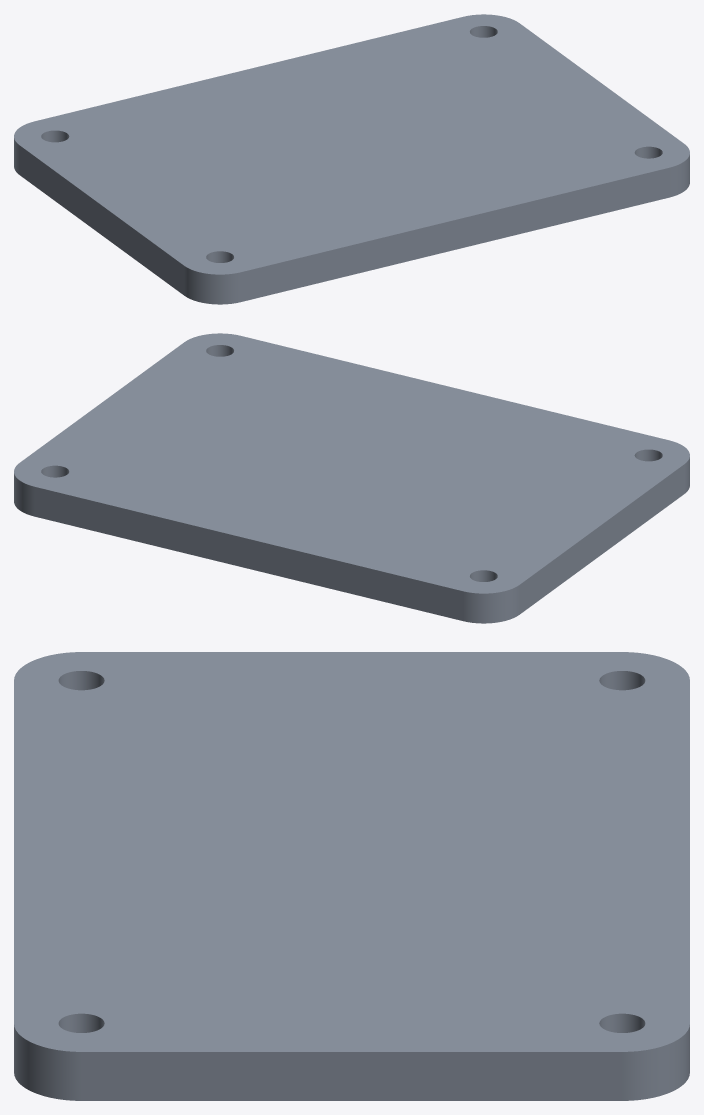
Rendered from step-1-preview-1.glb.
3 renders of one model, top to bottom at view 1: azimuth 30°, elevation 25°; view 2: azimuth 150°, elevation 25°; view 3: azimuth 270°, elevation 25°, orthographic. The views are drawn at different scales.
Visible parts, largest first — view 1: preview_13, preview_3, preview_0, preview_1, preview_5; view 2: preview_13, preview_4, preview_0, preview_2, preview_6; view 3: preview_13, preview_7, preview_5, preview_6, preview_8, preview_9, preview_10, preview_11.
Boxes of the visible parts, x1,y1,x2,y2 form: preview_13: [14, 14, 689, 274]; preview_3: [240, 168, 669, 301]; preview_0: [19, 145, 184, 295]; preview_1: [184, 266, 240, 304]; preview_5: [669, 154, 689, 197]; preview_13: [14, 333, 689, 593]; preview_4: [34, 487, 463, 620]; preview_0: [519, 464, 684, 614]; preview_2: [463, 585, 519, 623]; preview_6: [14, 473, 34, 516]; preview_13: [14, 652, 689, 1051]; preview_7: [81, 1052, 622, 1100]; preview_5: [14, 1025, 81, 1100]; preview_6: [622, 1025, 689, 1100]; preview_8: [58, 671, 104, 690]; preview_9: [58, 1013, 104, 1032]; preview_10: [599, 671, 645, 690]; preview_11: [599, 1013, 645, 1032].
Bounding box in the file's own units: 0.07 × 0.004 × 0.05.
